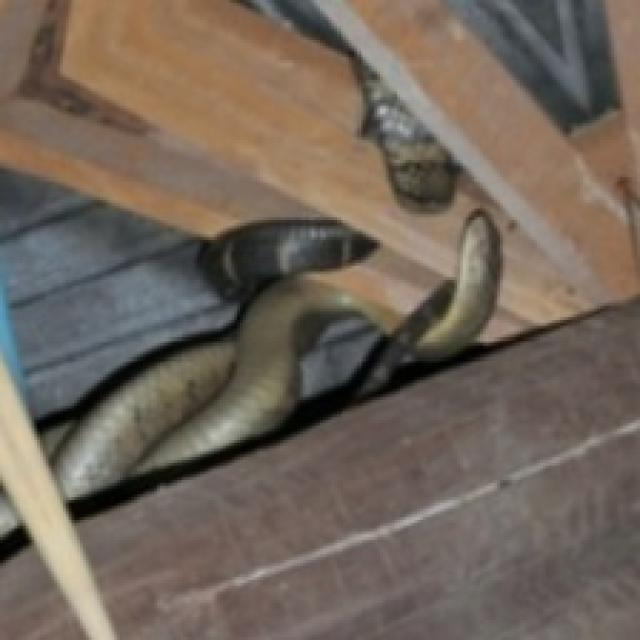king cobra: (51, 211, 500, 497), (54, 211, 500, 497), (17, 0, 149, 131), (357, 74, 457, 209)
